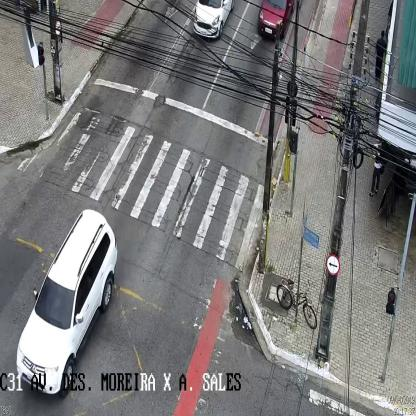bicycle: (276, 276, 317, 333)
car: (16, 209, 117, 394), (193, 0, 234, 39)
person: (368, 146, 385, 198), (375, 30, 386, 82)
